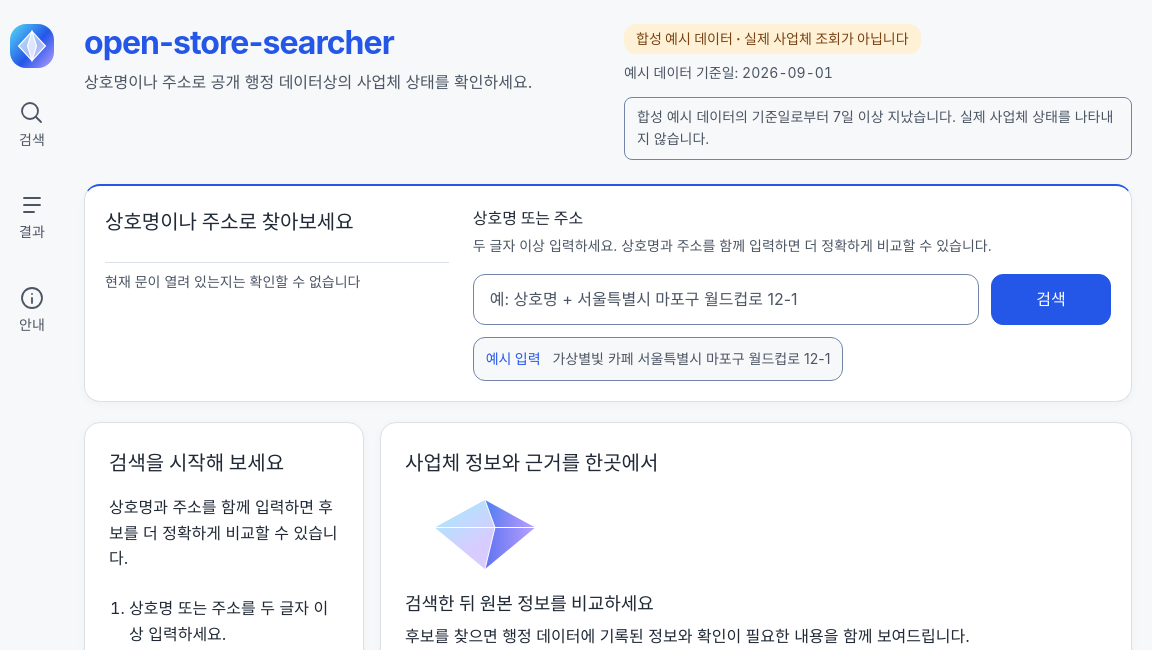
Test: App › renders the exact primary once and keeps the same-name address conflict in similar candidates
Type "가상별빛 카페 서울특별시 마포구 월드컵로 12-1" into the search field labelled "상호명 또는 주소" at (726, 299), box x1=473 y1=274 x2=979 y2=325
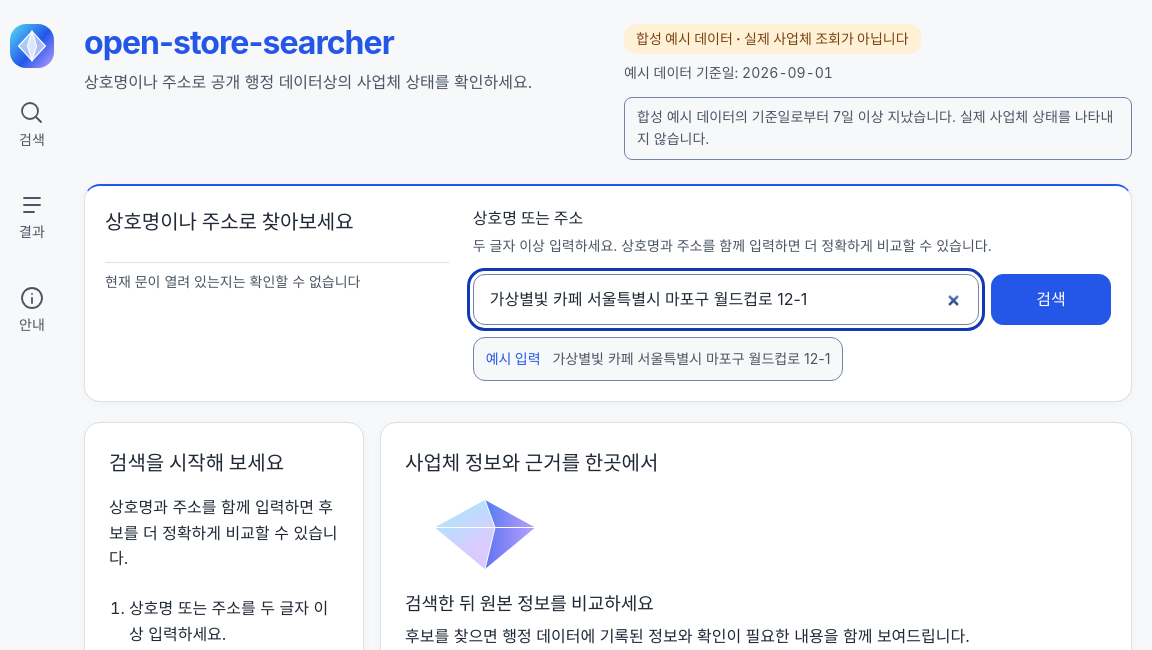
Click the button "검색" in the row of "현재 문이 열려 있는지는 확인할 수 없습니다" at (1051, 299), box x1=991 y1=274 x2=1111 y2=325
(page scrolled)
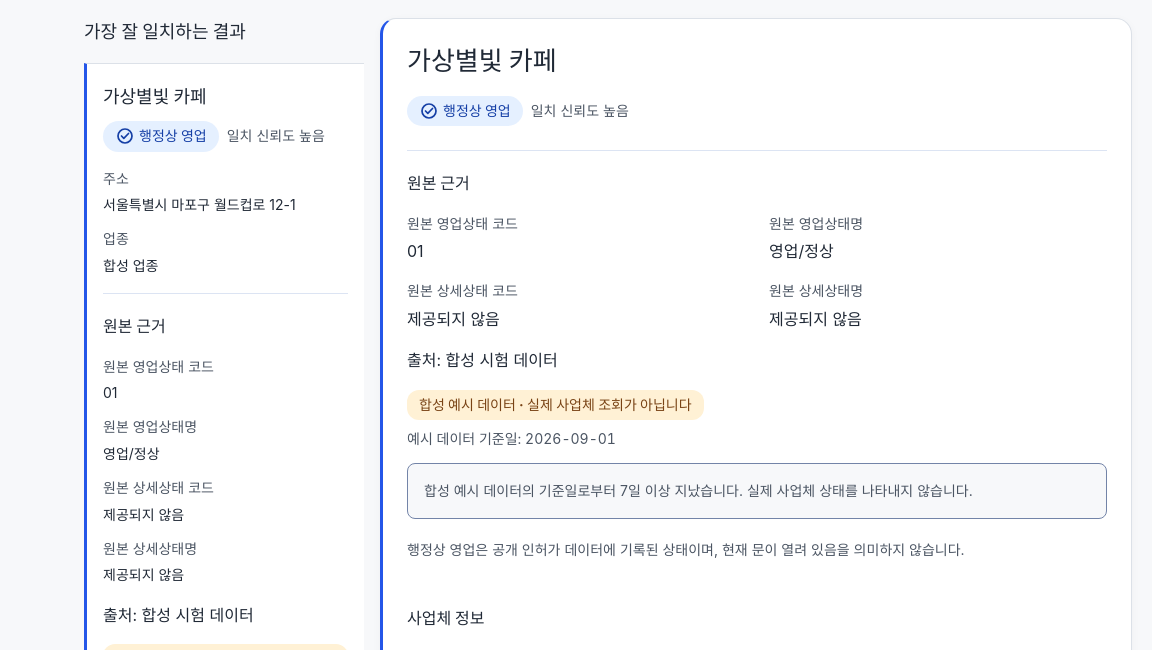
Expected: the text "서울특별시 마포구 월드컵로 12-1" below "가장 잘 일치하는 결과" is shown, x1=103 y1=196 x2=296 y2=213
Expected: the number of elements with class "candidate-summary" is 2
Expected: the 1st text "예시 데이터 기준일: 2026-09-01" is shown, x1=407 y1=430 x2=616 y2=448
